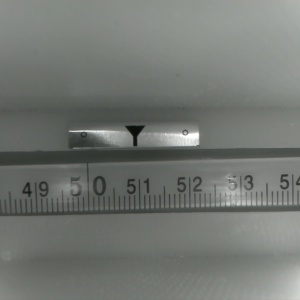0: (92, 176, 106, 195)
2: (192, 177, 202, 192)
3: (243, 175, 253, 190)
4: (21, 183, 32, 198), (294, 174, 300, 189)
5: (69, 177, 81, 196), (176, 176, 186, 192), (126, 178, 136, 194), (279, 174, 289, 190), (227, 176, 236, 190)
9: (38, 181, 48, 197)
finger: (122, 125, 145, 147)
